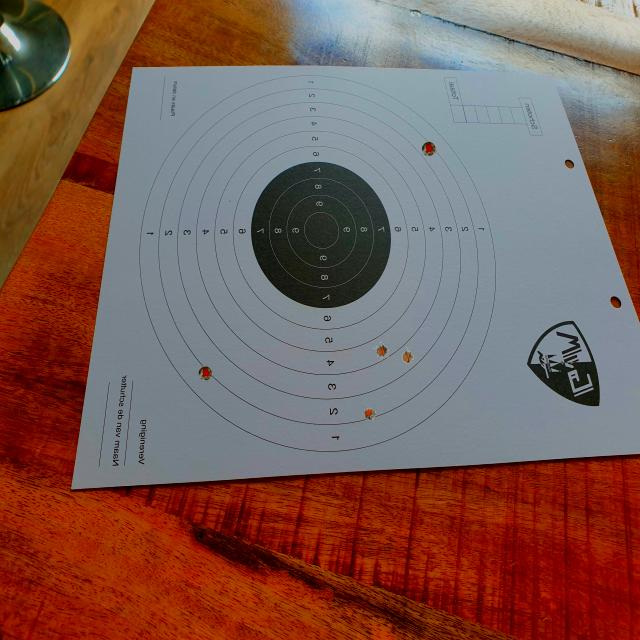2: (199, 365, 214, 382), (422, 142, 437, 156), (364, 408, 377, 422)
3: (402, 347, 414, 364)
4: (375, 342, 389, 360)
Target: (138, 71, 497, 454)
black_contour: (251, 161, 391, 308)
